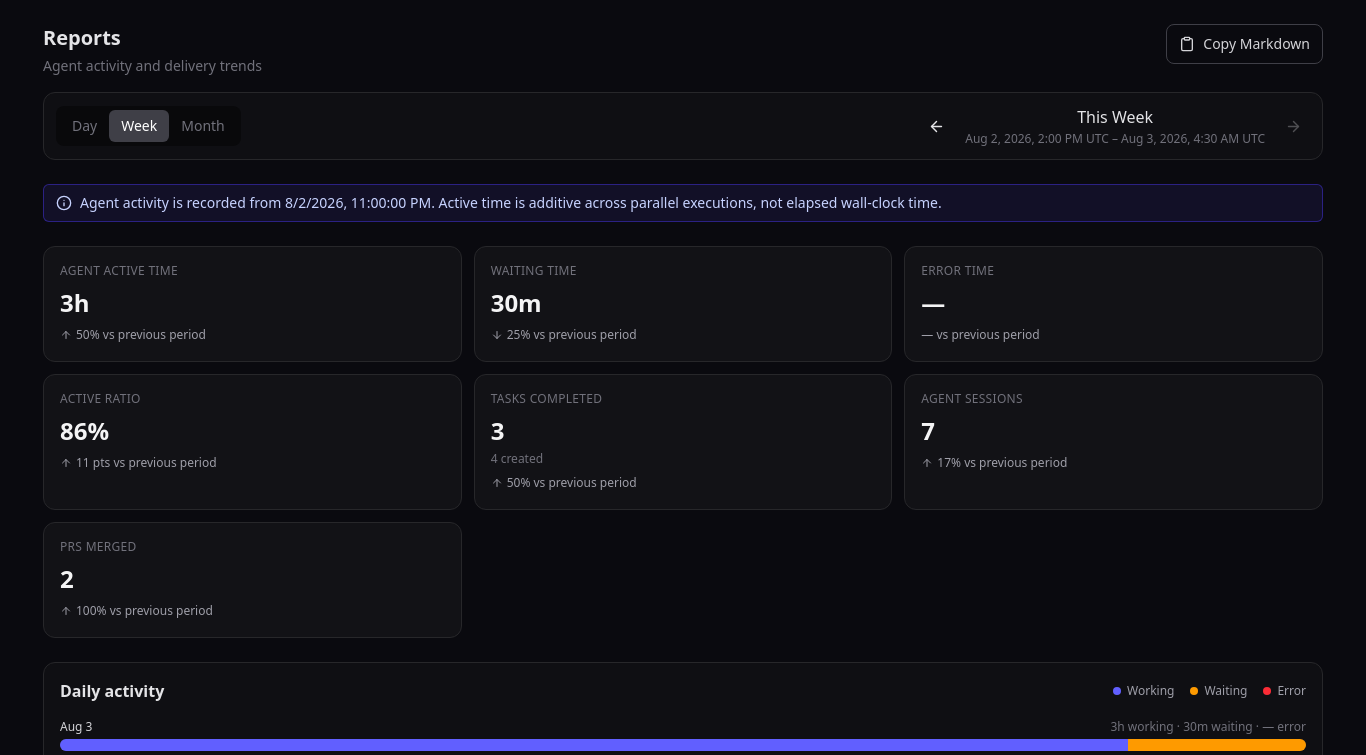
ReportsPage › copies server-rendered Markdown and announces success
The width and height of the screenshot is (1366, 755).
Expected: the heading "This Week" is shown, [1077,106,1153,128]
Click the button "Copy Markdown". click: [1245, 44]
box: [1166,24,1323,64]
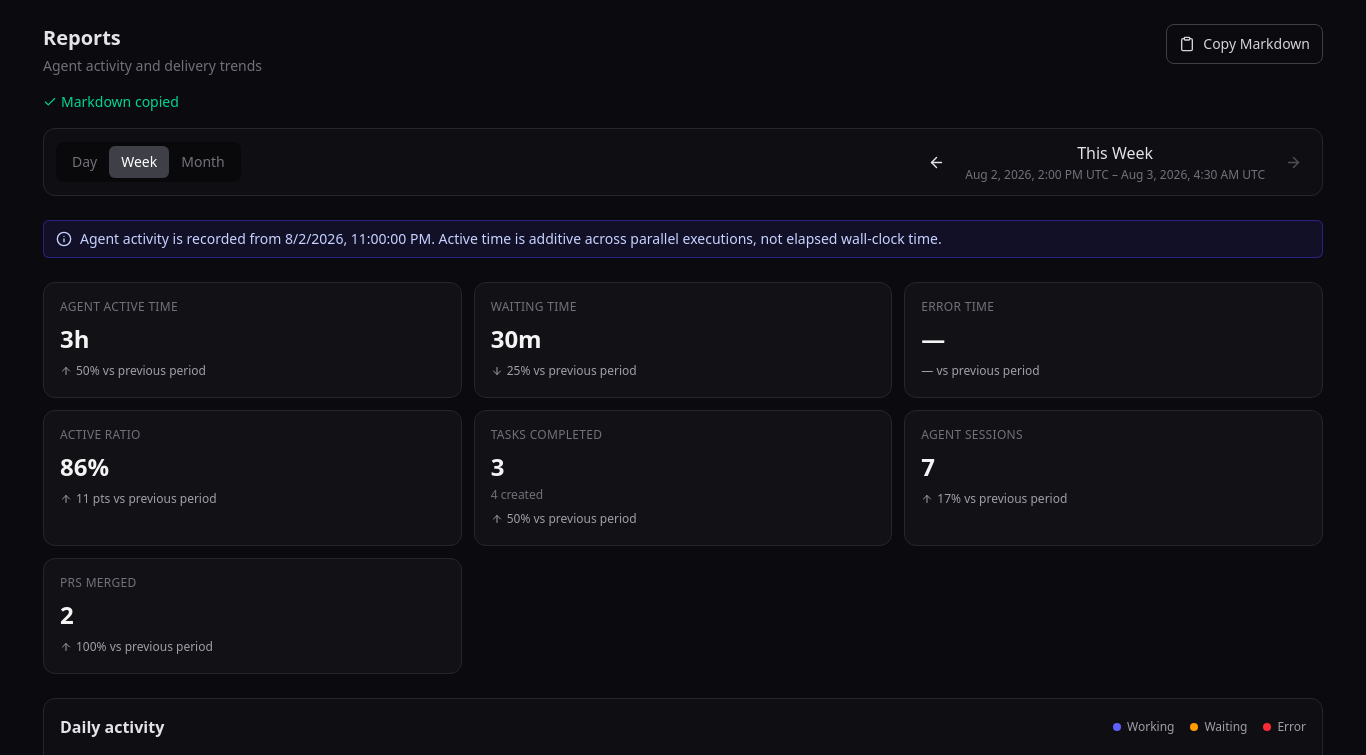
Expected: the text "Markdown copied" is shown, [43,92,179,111]
